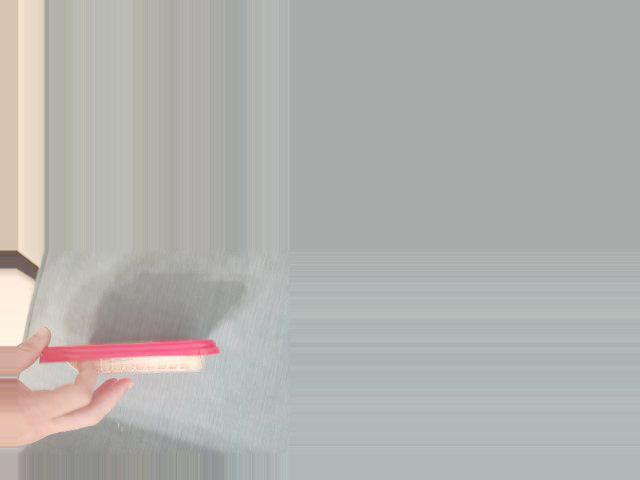cheese: (36, 328, 223, 394)
